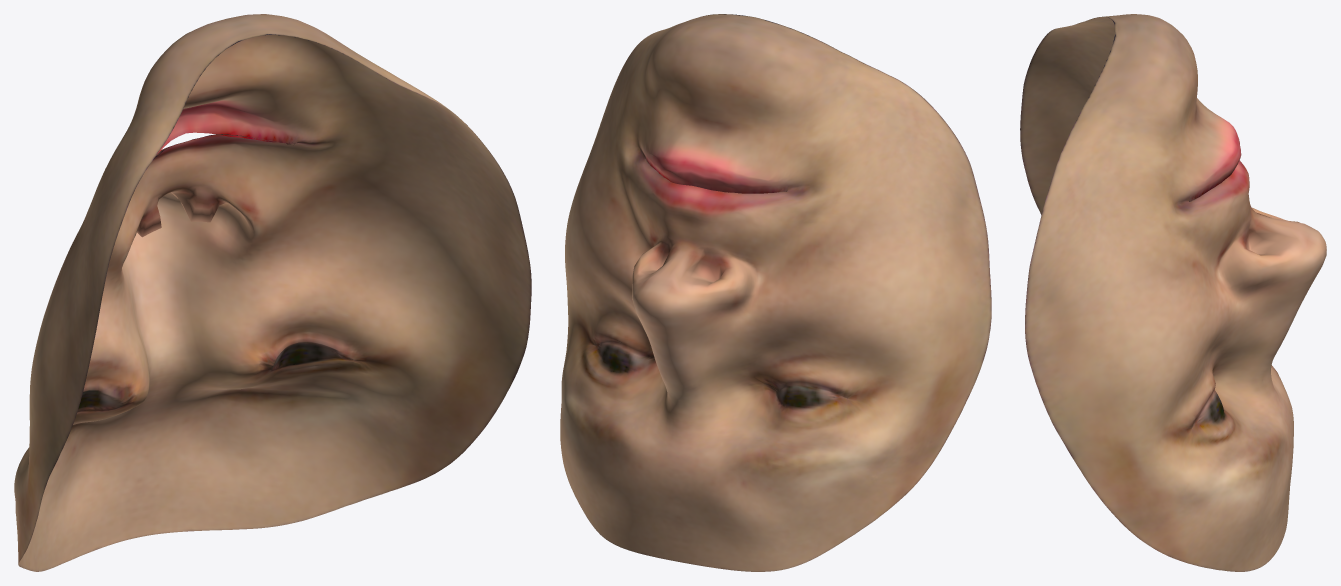
File: NextFace.glb
The picture shows the model from 3 angles, left to right: view 1: azimuth 30°, elevation 25°; view 2: azimuth 150°, elevation 25°; view 3: azimuth 270°, elevation 25°; orthographic projection. The views are drawn at different scales.
Parts seen in each view (by area): view 1: mesh0; view 2: mesh0; view 3: mesh0.
Boxes of the visible parts, x1,y1,x2,y2 form: mesh0: (14,14,531,571); mesh0: (560,14,991,571); mesh0: (1020,14,1326,571).
Size of the model in its own units: 0.8612 by 1 by 0.5559.
Materials: 1 (1 with a texture image).
